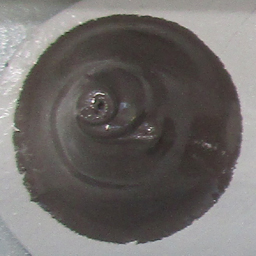perfect: (9, 10, 246, 245)
